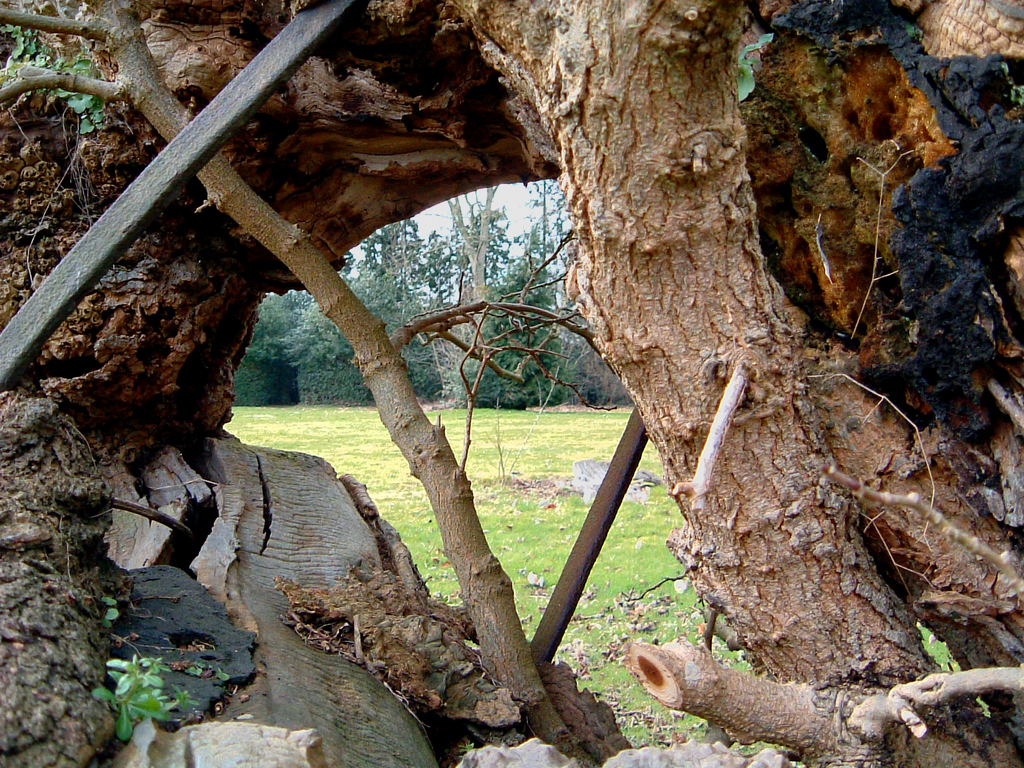Tree: (0, 0, 809, 767), (246, 163, 583, 351)
